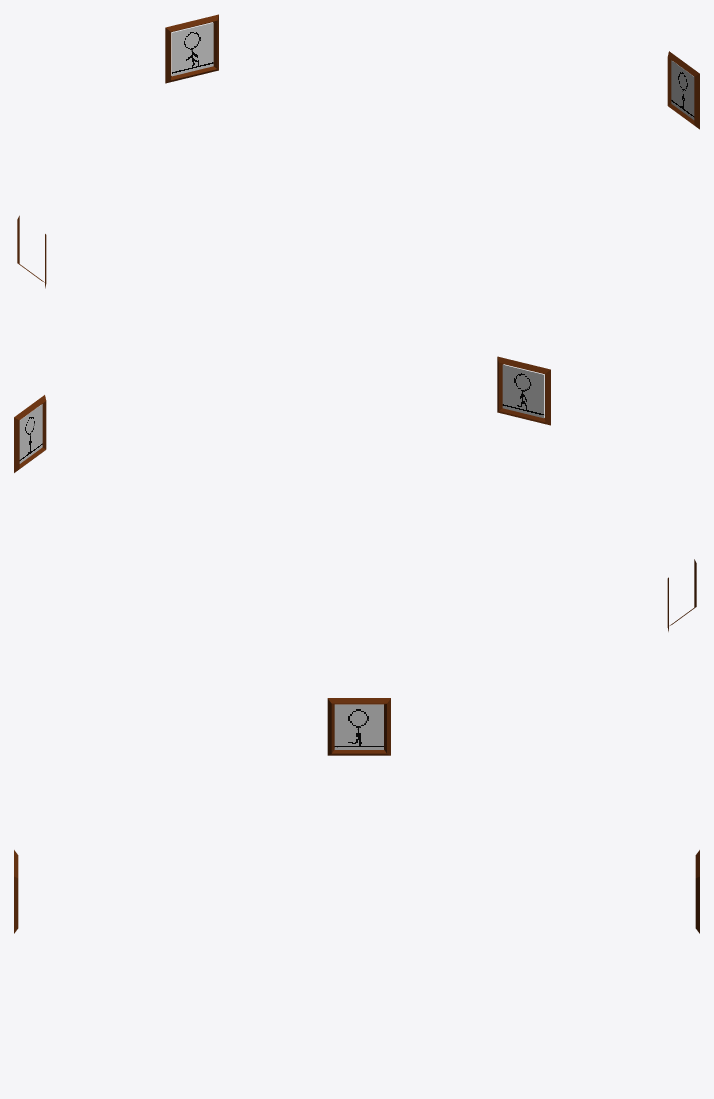
Rendered from Room7.glb.
3 views of the same model, one above another, from view 1: azimuth 30°, elevation 25°; view 2: azimuth 150°, elevation 25°; view 3: azimuth 270°, elevation 25° (orthographic). The views are drawn at different scales.
Visible parts, largest first — view 1: Canvas.002, Frame.001, Canvas.003, Frame.002; view 2: Canvas.004, Frame.003, Canvas.003, Frame.002; view 3: Canvas.001, Frame.004.
Part boxes in pixels (left/top/right/bottom): Canvas.002: left=172, top=22, right=213, bottom=76; Frame.001: left=165, top=14, right=218, bottom=83; Canvas.003: left=671, top=60, right=694, bottom=119; Frame.002: left=667, top=51, right=699, bottom=129; Canvas.004: left=502, top=364, right=544, bottom=418; Frame.003: left=497, top=356, right=550, bottom=425; Canvas.003: left=19, top=404, right=42, bottom=463; Frame.002: left=14, top=395, right=46, bottom=472; Canvas.001: left=334, top=705, right=383, bottom=749; Frame.004: left=327, top=698, right=390, bottom=755.
Size of what is drawn, in the model's own units: 15.71 by 1.28 by 13.84.
Materials: 8 (4 with a texture image).
